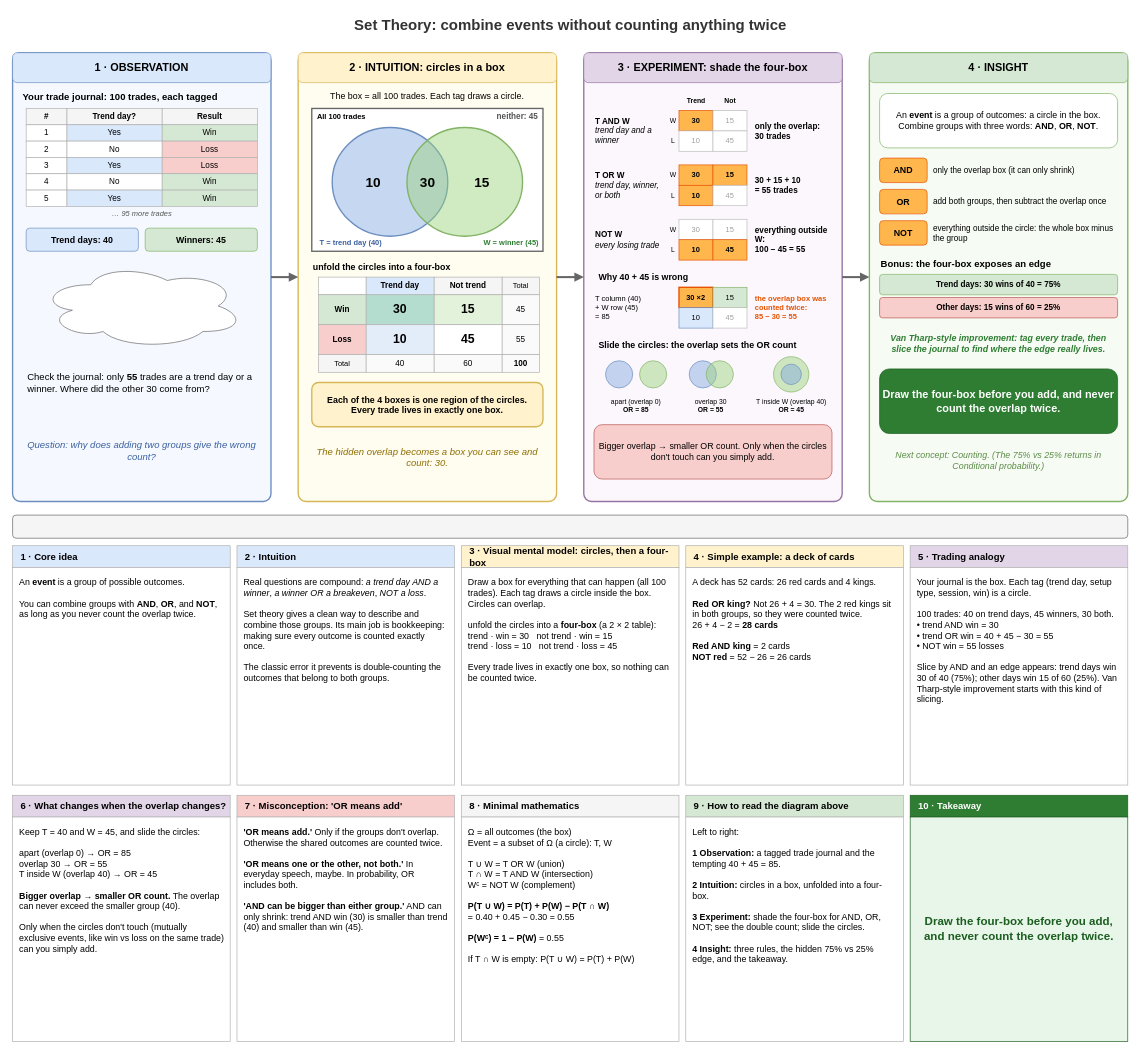
Some shapes in this 1140 by 1053 pixel diagram are drawn without their labels. Each missing label, with the centre of its shape:
"LESSON NOTES: the full explanation, for future reference" goes at (570,526).
"Trend day OR winner? 40 + 45 = 85 trades... right?" goes at (141,305).
